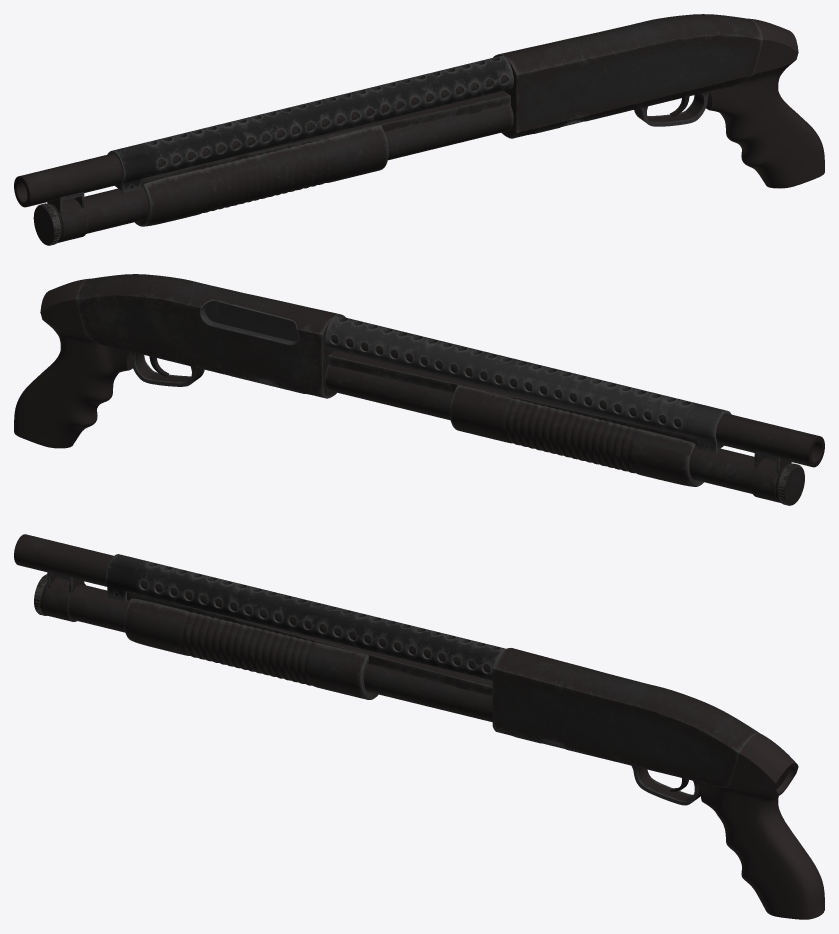
Rendered from shotgun.glb.
The picture shows the model from 3 angles, top to bottom: view 1: azimuth 30°, elevation 25°; view 2: azimuth 150°, elevation 25°; view 3: azimuth 330°, elevation 25°; orthographic projection.
Parts seen in each view (by area): view 1: Body90, Body8, Body5, Body1_6, Body1, Body3, Body9, Body13, Body14; view 2: Body90, Body8, Body5, Body1_6, Body1, Body3, Body9, Body87, Body13, Body14; view 3: Body90, Body8, Body1_6, Body5, Body1, Body3, Body9, Body13.
Part boxes in pixels (x1,y1,x2,y2): Body90: [493, 14, 763, 138]; Body8: [107, 56, 513, 193]; Body5: [134, 125, 388, 226]; Body1_6: [706, 18, 824, 188]; Body1: [84, 105, 513, 233]; Body3: [14, 60, 508, 207]; Body9: [115, 90, 510, 190]; Body13: [47, 191, 87, 242]; Body14: [33, 203, 60, 245]; Body90: [75, 274, 345, 398]; Body8: [325, 315, 731, 453]; Body5: [449, 384, 703, 486]; Body1_6: [14, 278, 132, 448]; Body1: [325, 365, 754, 493]; Body3: [331, 320, 824, 467]; Body9: [328, 350, 723, 450]; Body87: [199, 299, 299, 345]; Body13: [751, 451, 791, 502]; Body14: [777, 463, 804, 505]; Body90: [492, 648, 759, 805]; Body8: [105, 554, 506, 680]; Body1_6: [698, 733, 824, 919]; Body5: [124, 598, 378, 699]; Body1: [69, 584, 492, 722]; Body3: [14, 534, 497, 680]; Body9: [127, 591, 492, 696]; Body13: [43, 570, 85, 621].
Size of the model in its own units: 7.44 by 1.73 by 0.4653.
1 material, 1 textured.
